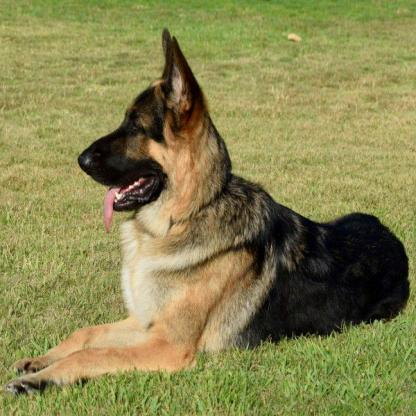dog: (14, 28, 410, 394)
